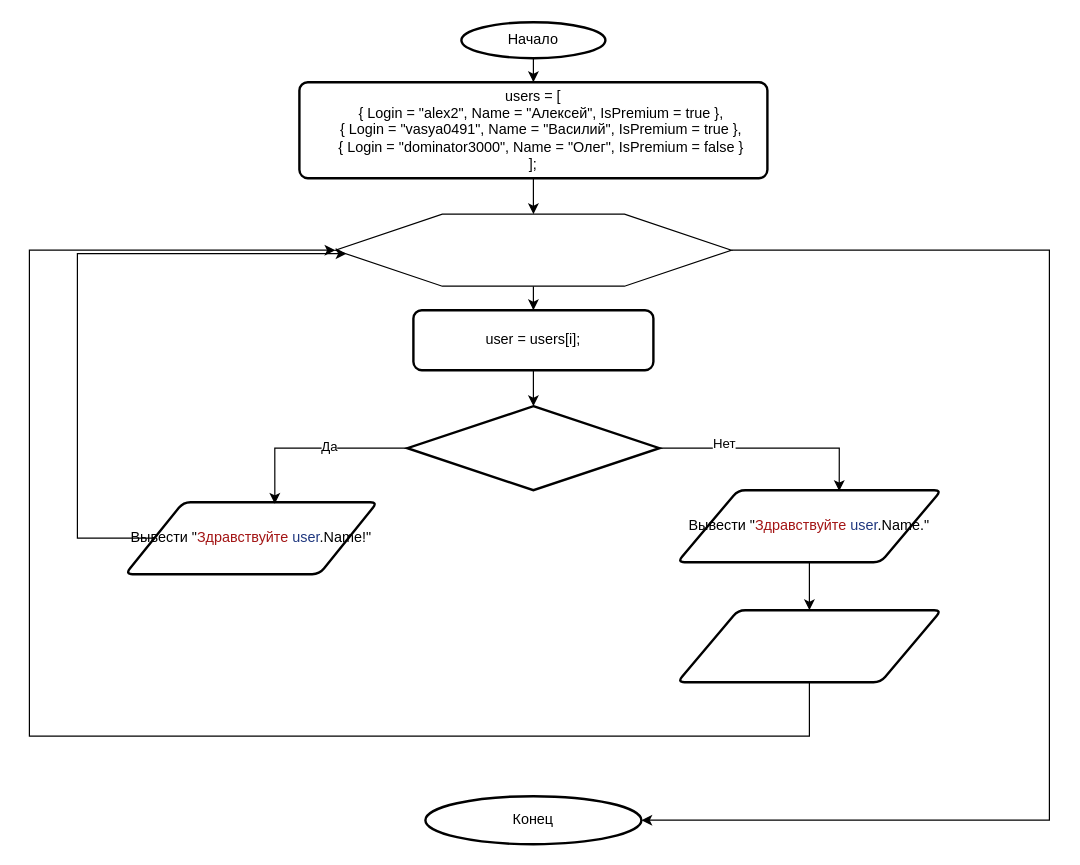
Image size: 1080x865. Some labels were removed from this diagram. The shapes that lost their labels are listed below. From the top down, each one's centre as x and y in pixels, then its label:
the point at 532,249: for ( int i = 0; i < users .Length; i ++)
the point at 533,447: user. IsPremium = true;
the point at 809,645: Показать рекламу ShowAds()
